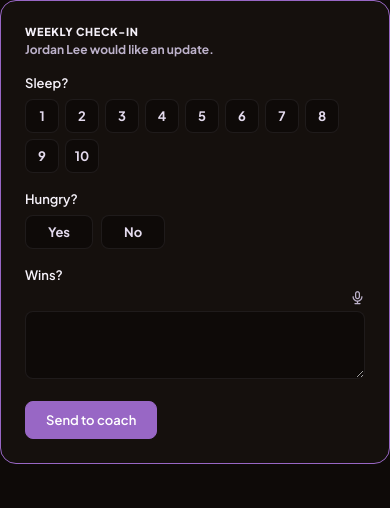
Test case: CoachCheckinCard › keeps the answers and shows the reason when sending fails
Click the button "7": (282, 116) [265,99,299,133]
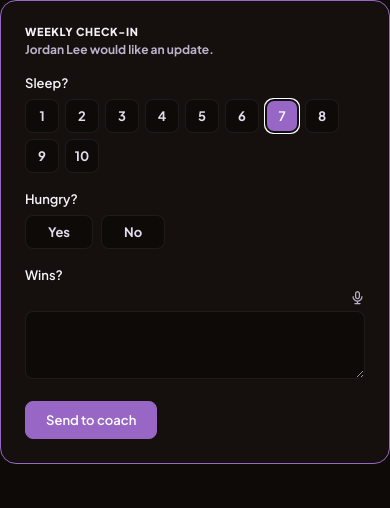
Click the button "Yes": (59, 232) [25,215,93,249]
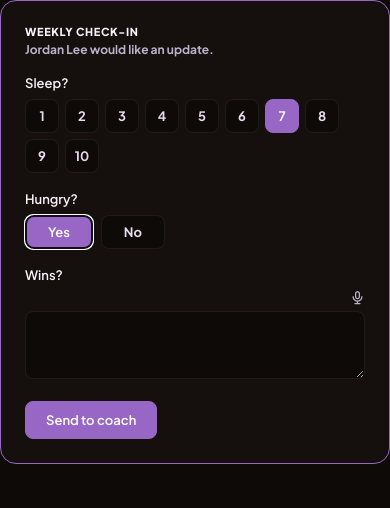
Click the button "Send to coach": (91, 420) [25,401,157,439]
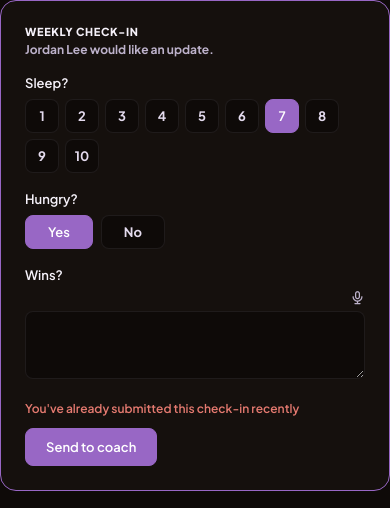
expect the message shows "already submitted": met, box [25,401,299,416]
